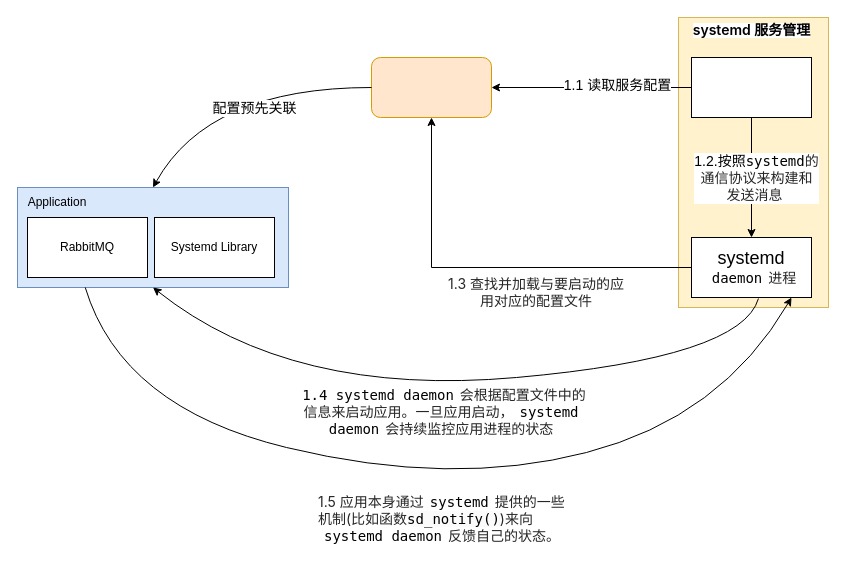
Image size: 846x565. Some labels were removed from this diagram. Each missing label, with the centre of its shape:
configure: the point at 431,87
systemctl 命令行: the point at 751,87
